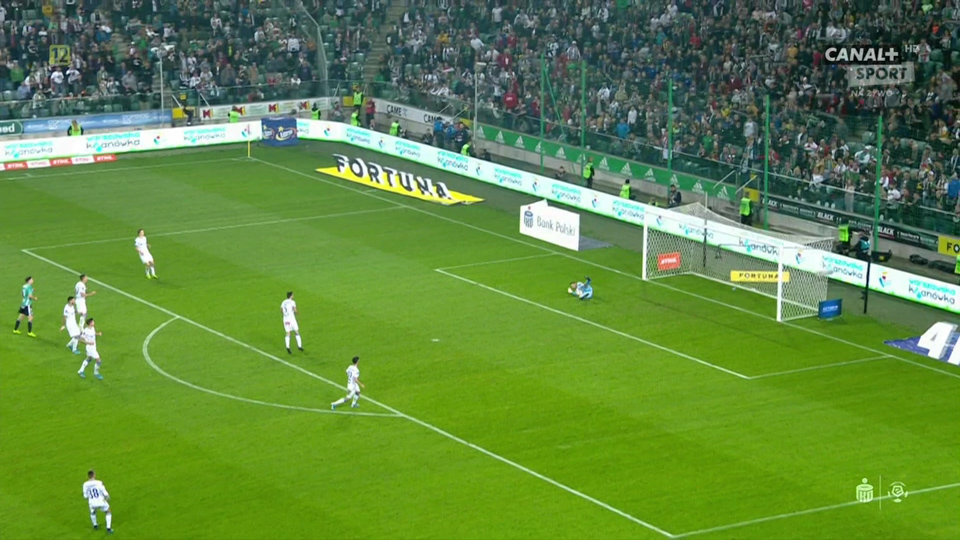Adidas: (554, 146, 569, 161), (598, 154, 611, 169), (621, 162, 633, 176)
